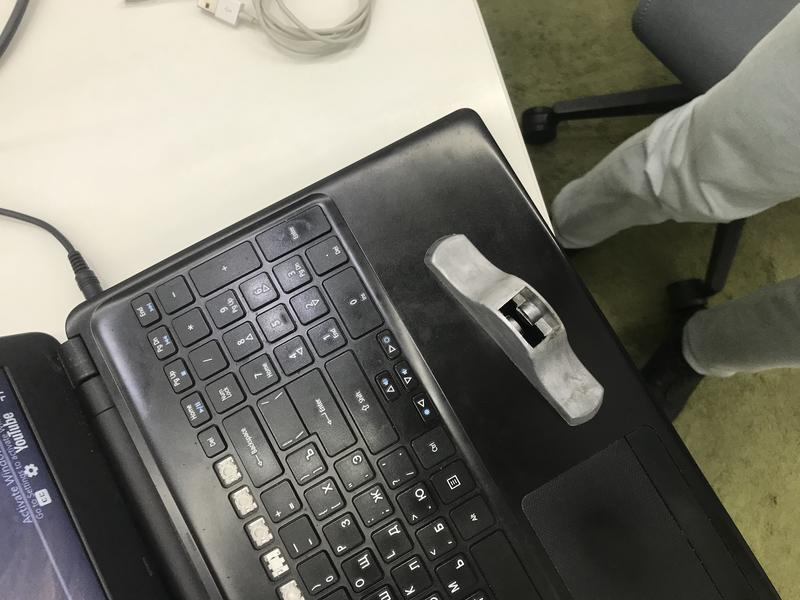zapchast: (418, 222, 616, 431)
